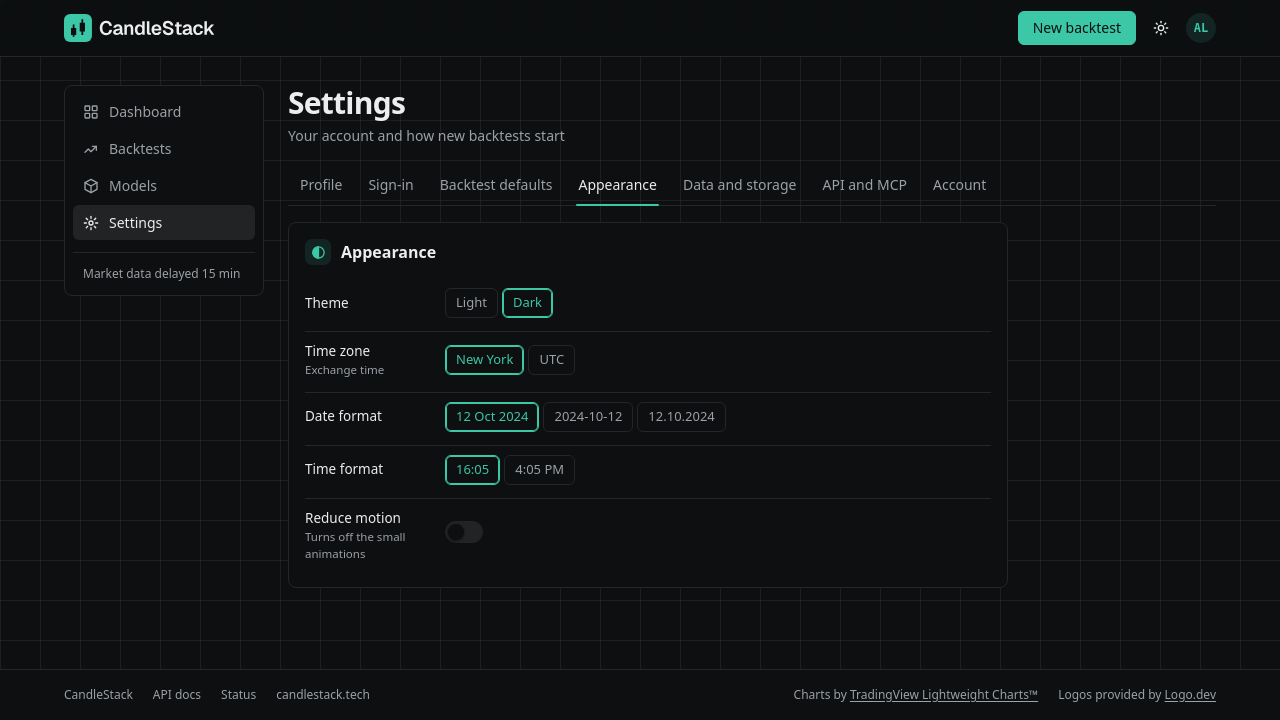
it: Appearance › switches the theme of the page at once and saves it, like the header’s toggle
The width and height of the screenshot is (1280, 720).
Click the radio button labelled "Light". click: click(471, 303)
box: [445,288,498,318]
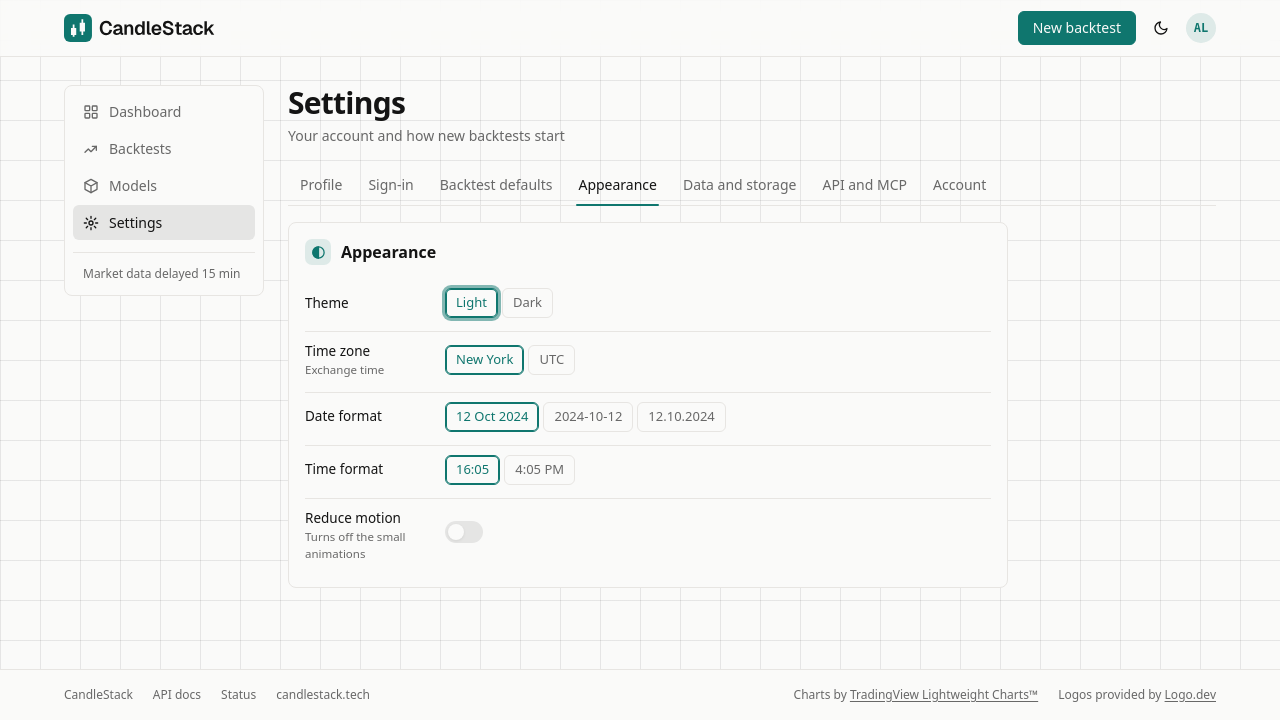
Result: the button named "Switch to dark theme" is shown at [1144,11,1178,45]
